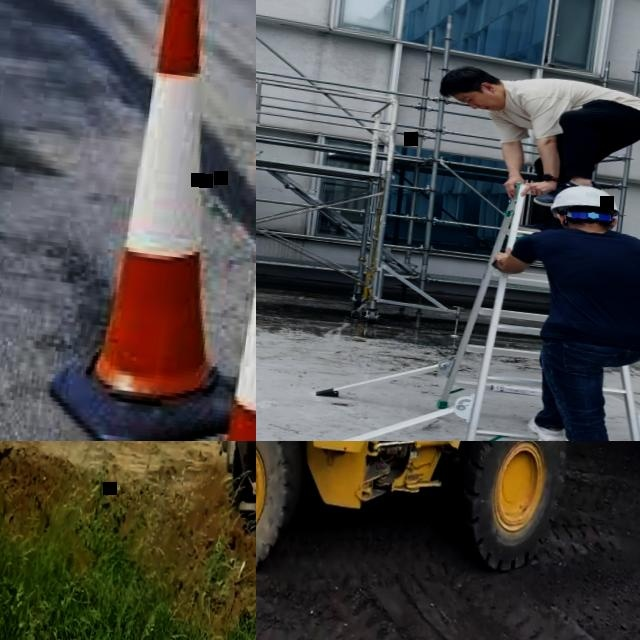Hardhat: (548, 180, 627, 220)
NO-Hardhat: (438, 63, 487, 101)
NO-Mask: (478, 91, 503, 113)
NO-Safety Vest: (520, 219, 640, 341), (499, 70, 640, 138)
Person: (460, 173, 640, 441), (424, 61, 640, 217)
Safety Cone: (43, 0, 256, 441), (173, 154, 256, 441)
machinery: (256, 441, 640, 625), (125, 441, 256, 640)
